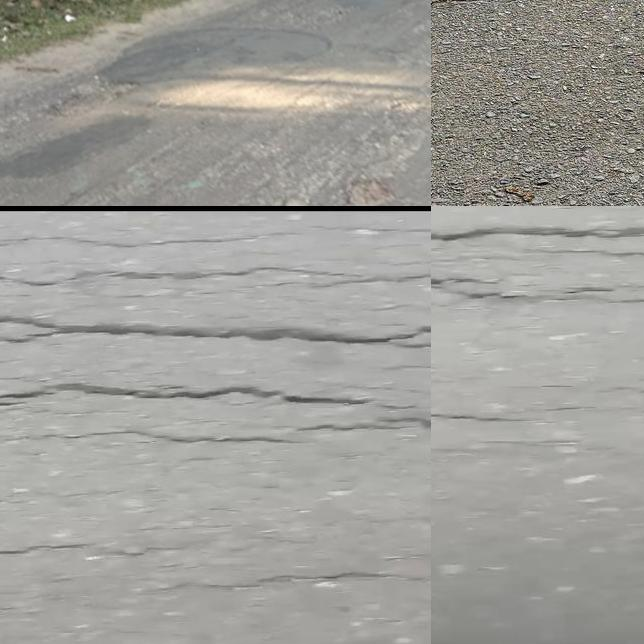Melintang: (0, 368, 431, 457), (0, 307, 431, 354), (431, 260, 644, 316), (431, 215, 644, 252)
